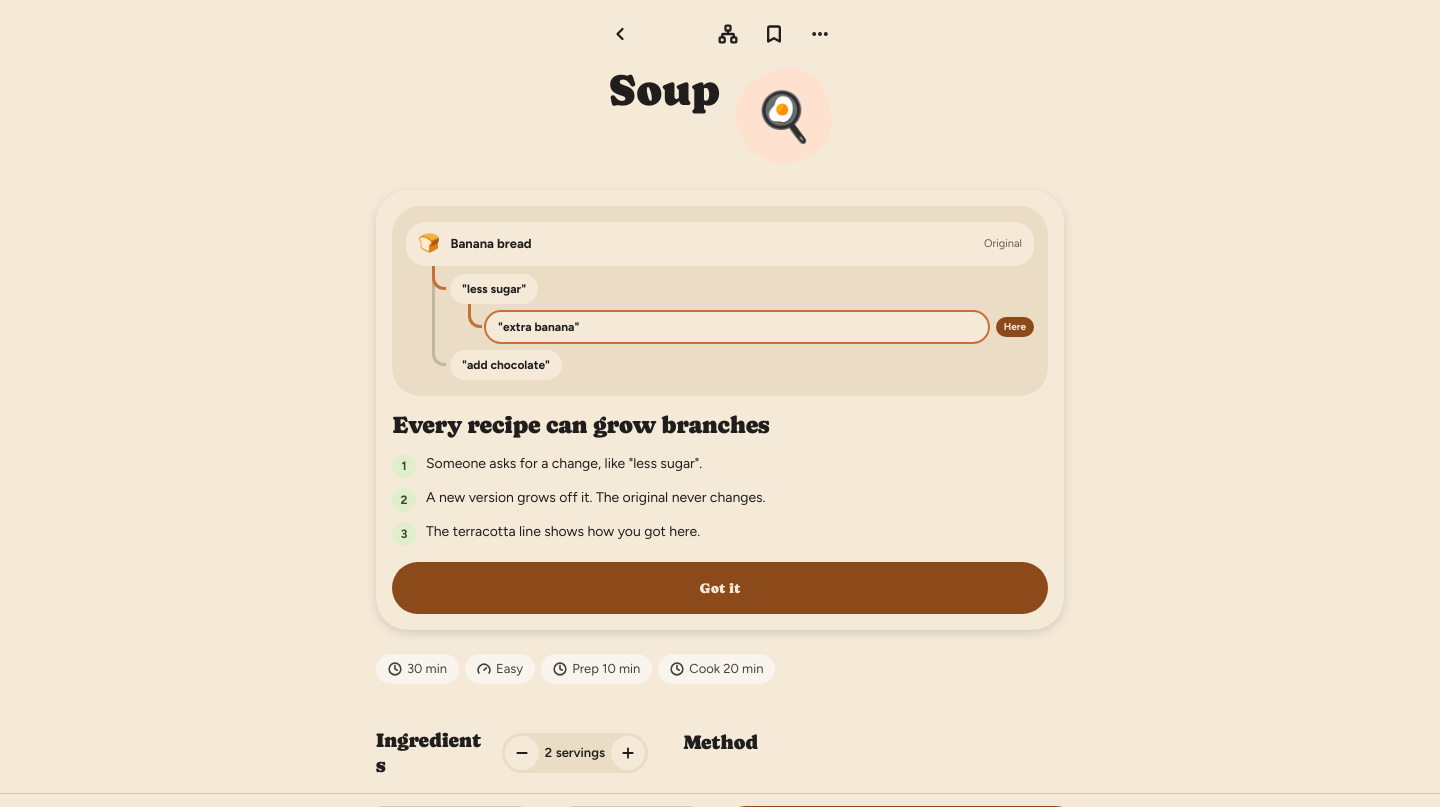
RecipeDetailPage Delete › keeps the device copy and shows the failure dialog when the cloud delete fails
What coordinates should you click on to do the following:
click the button named "More options"
I would click on:
 (820, 34)
Its box is x1=798 y1=12 x2=842 y2=56.
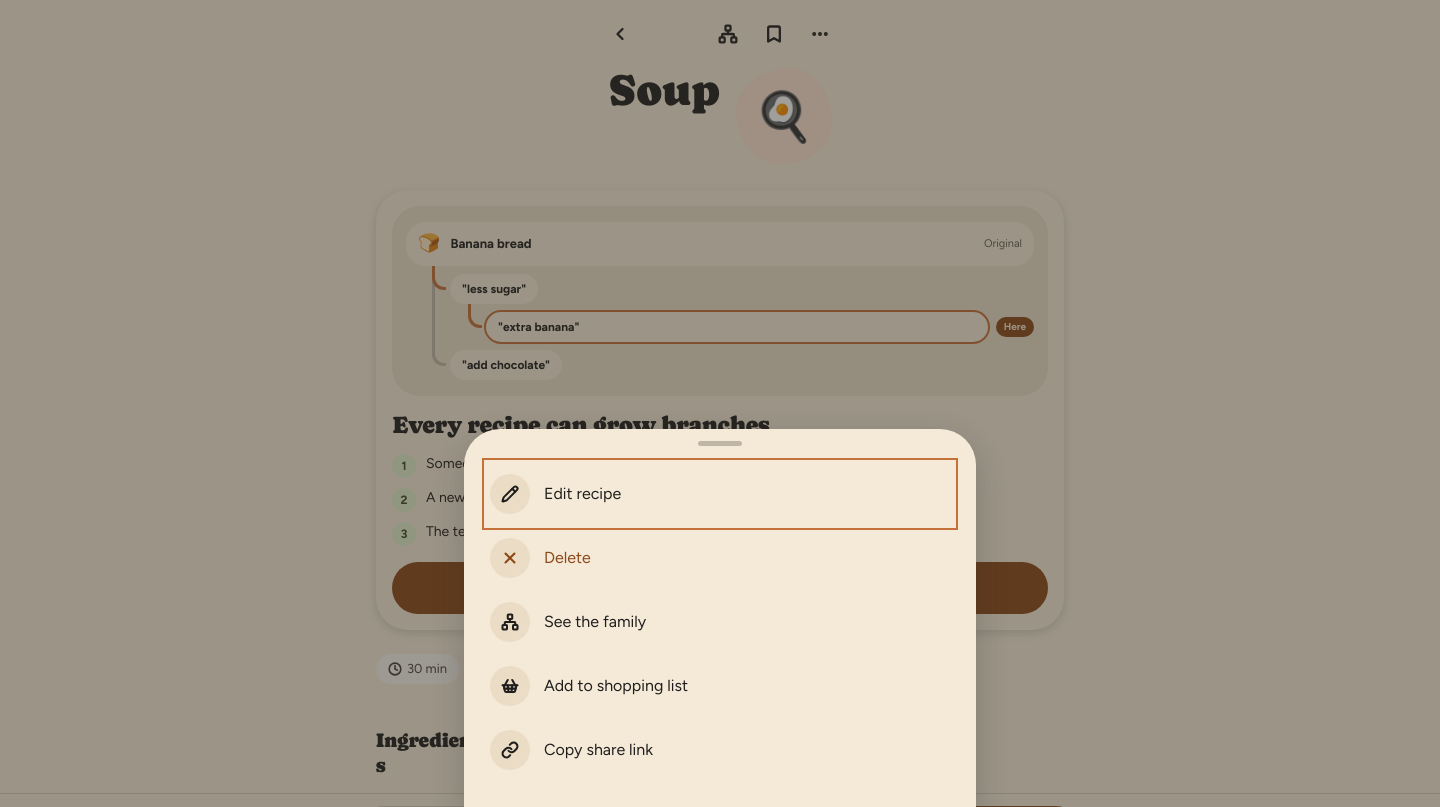
What coordinates should you click on to do the following:
click the button "Delete"
I would click on:
 (510, 558)
Its box is x1=486 y1=526 x2=954 y2=590.
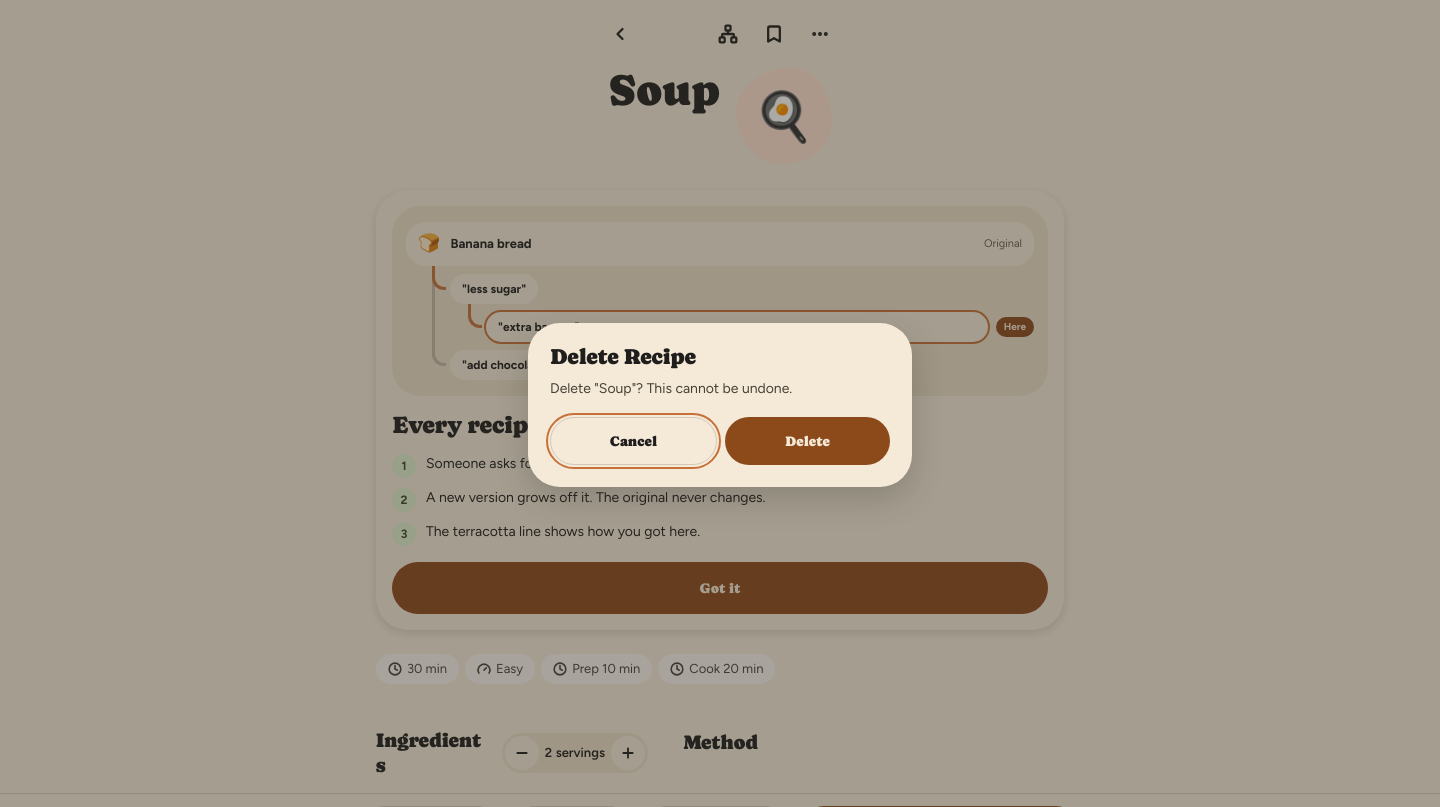
What coordinates should you click on to do the following:
click the button "Delete"
I would click on:
 (808, 441)
Its box is x1=725 y1=417 x2=890 y2=465.
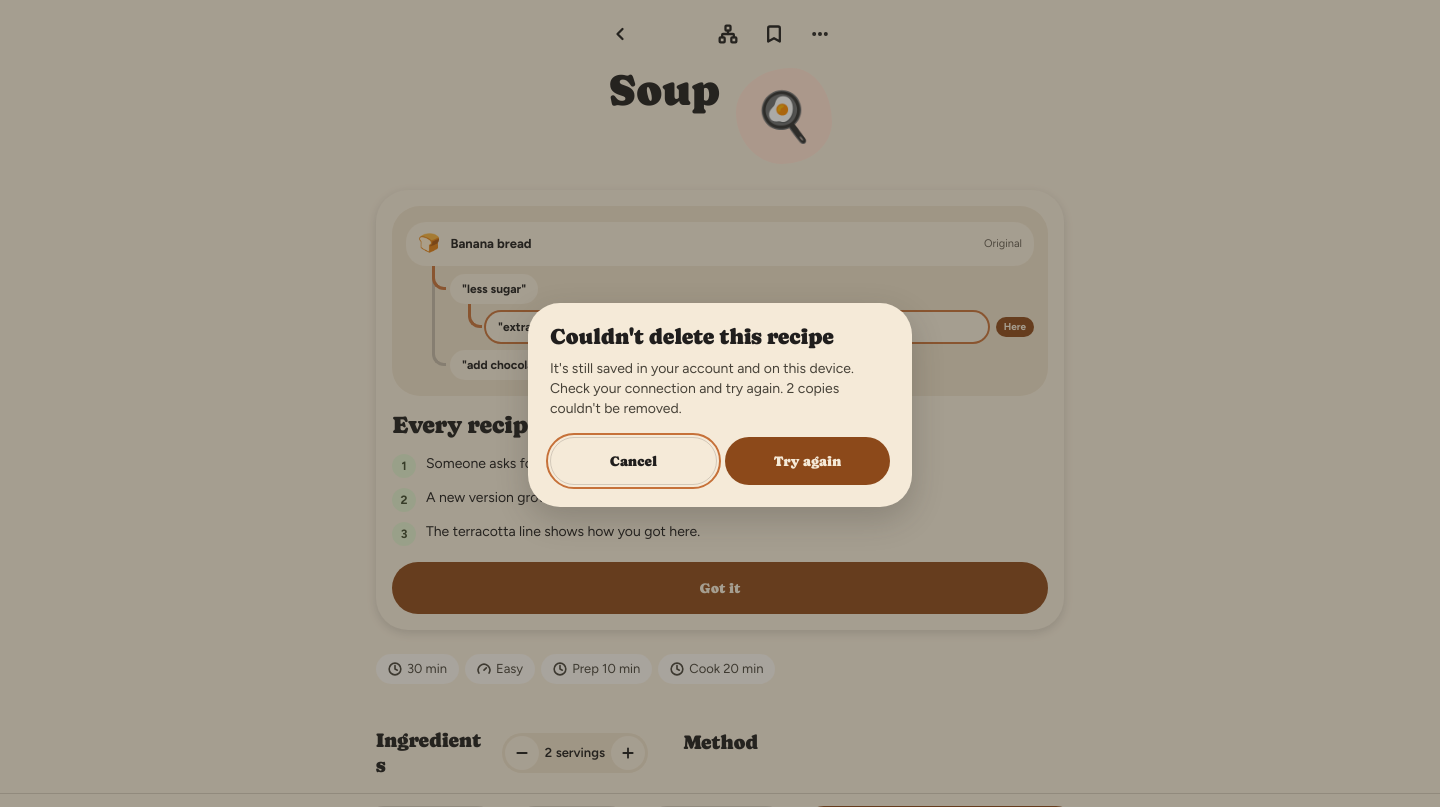
Now the heading "Couldn't delete this recipe" is shown, box x1=550 y1=324 x2=834 y2=349
Now the text "It's still saved in your account and on this device. Check your connection and try again. 2 copies couldn't be removed." is shown, box x1=550 y1=360 x2=854 y2=417
